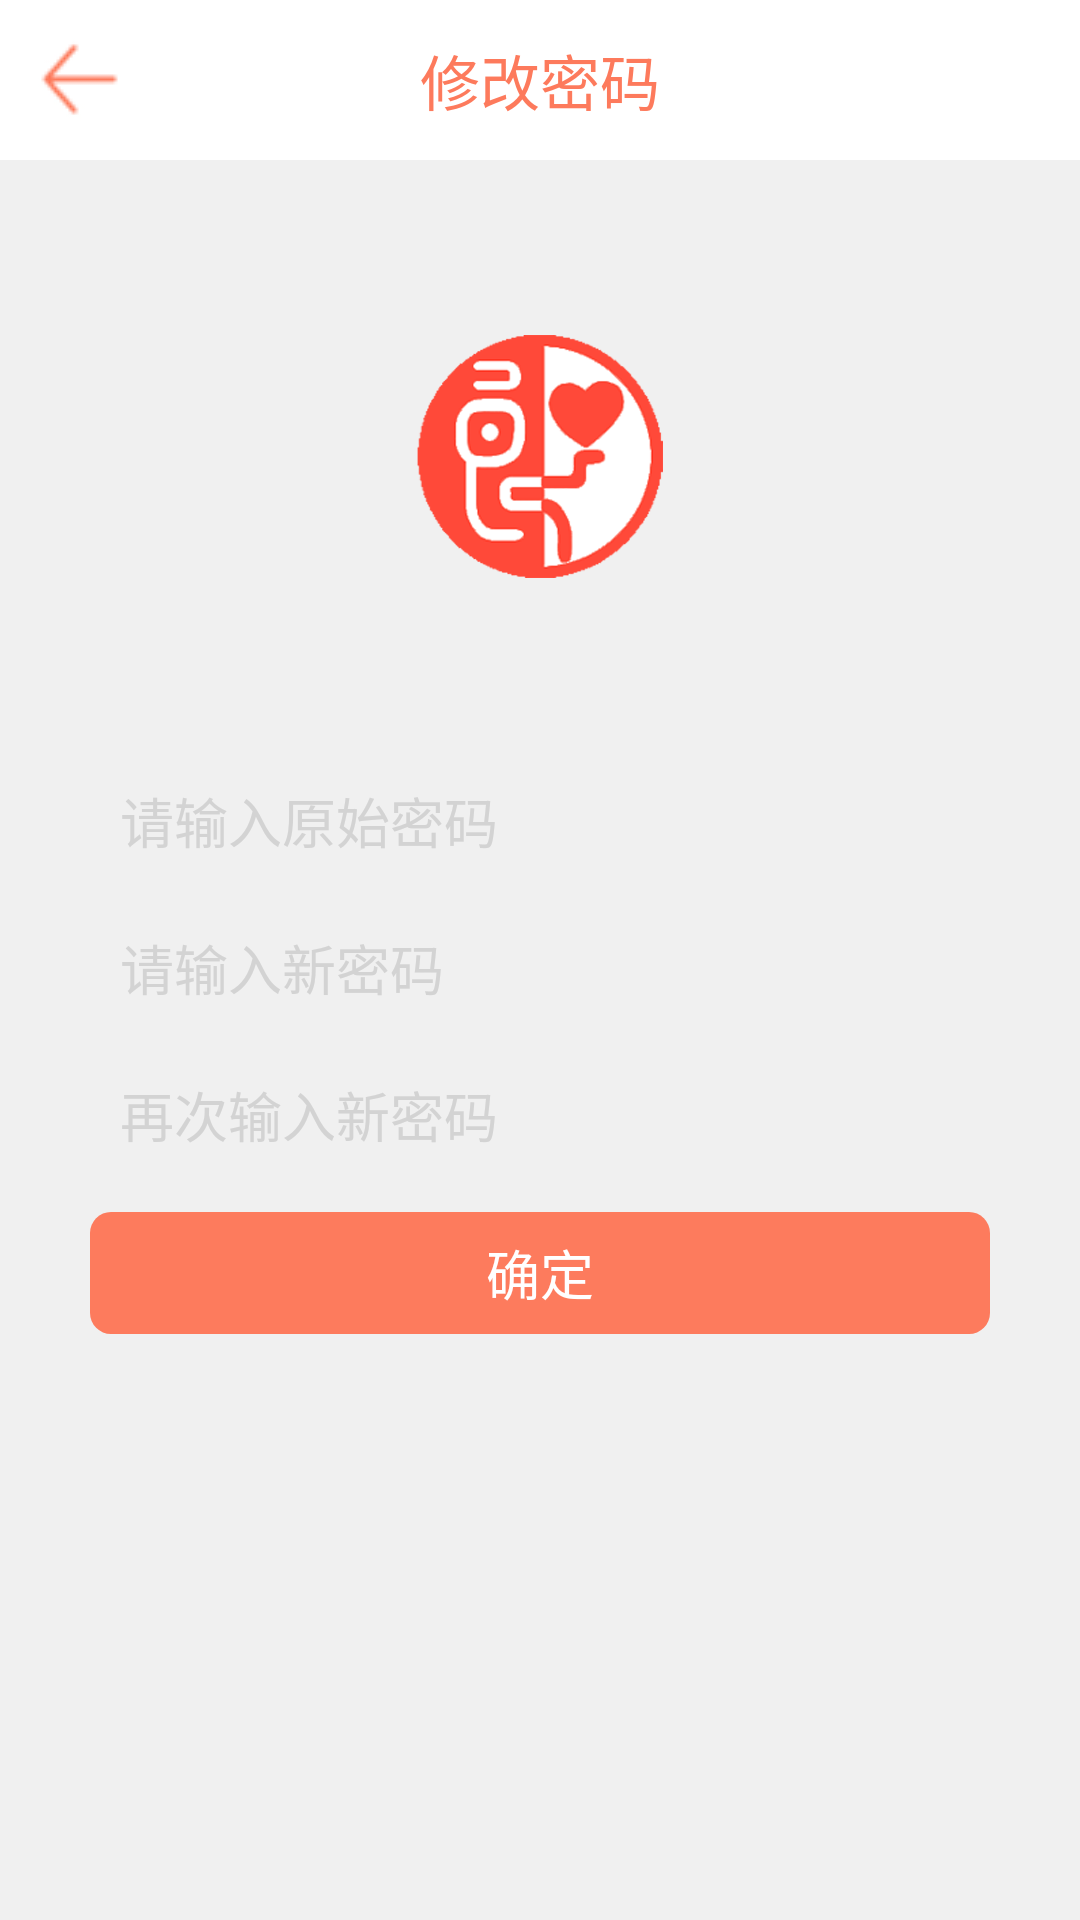

Where to tap for icons on this 1080x1920 app screen, as [x,y]:
zuo: [80,79]
